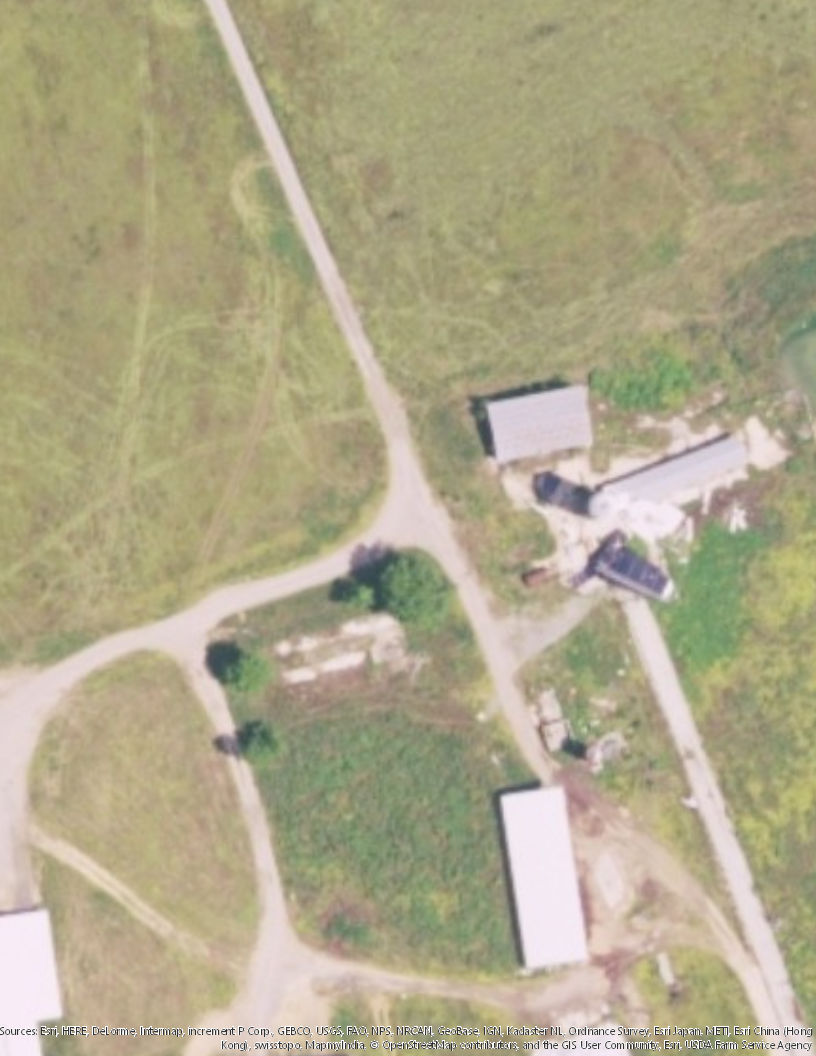cafo: (495, 778, 607, 982), (481, 377, 605, 465)
